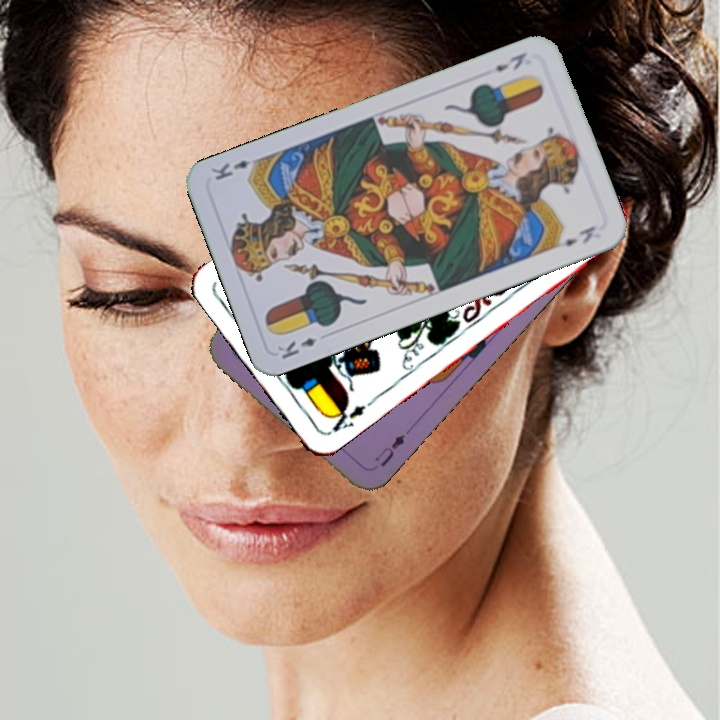EA: (324, 395, 377, 436)
EK: (273, 333, 320, 362), (490, 48, 529, 74)
EU: (370, 430, 408, 470)
